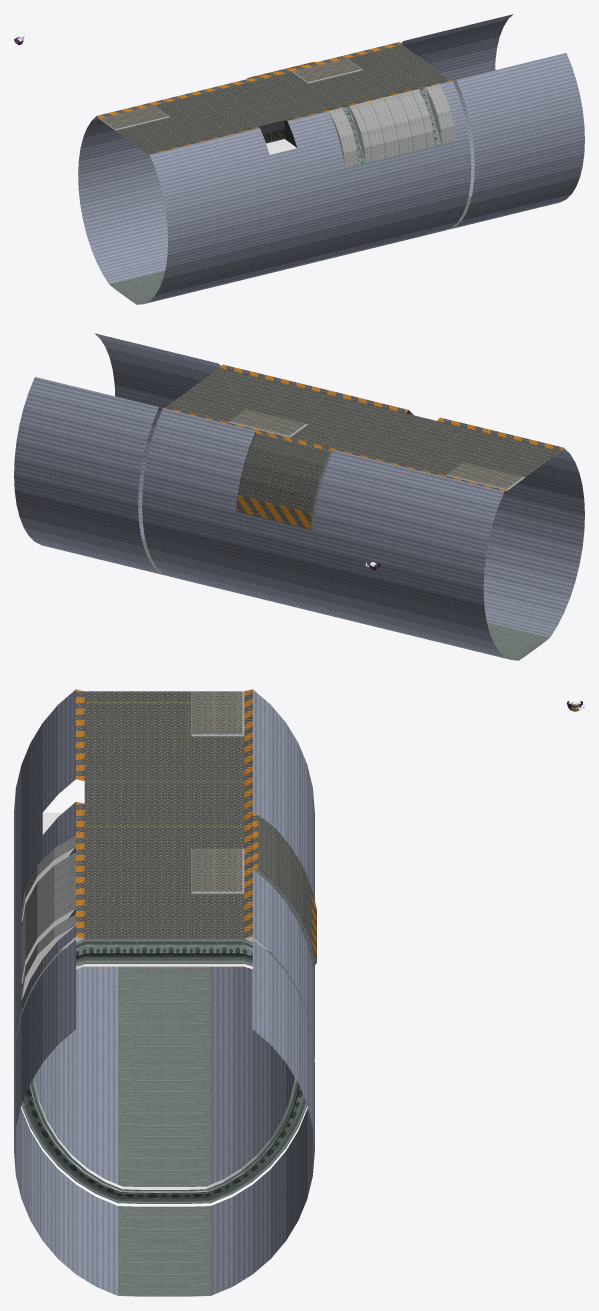
The picture shows the model from 3 angles, top to bottom: view 1: azimuth 30°, elevation 25°; view 2: azimuth 150°, elevation 25°; view 3: azimuth 270°, elevation 25°; orthographic projection. The views are drawn at different scales.
Visible parts, largest first — view 1: Geom0Shape12_face00, Geom0Shape10_face00, Geom0Shape6_face00, Geom0Shape5_face00, Geom0Shape8_face00, Geom0Shape11_face00, Geom0Shape13_face00, Geom0Shape4_face00, Geom0Shape3_face00, Geom0Shape5_face02; view 2: Geom0Shape12_face00, Geom0Shape7_face00, Geom0Shape9_face00, Geom0Shape10_face00, Geom0Shape5_face00, Geom0Shape11_face00, Geom0Shape13_face00, Geom0Shape3_face00; view 3: Geom0Shape5_face00, Geom0Shape10_face00, Geom0Shape3_face00, Geom0Shape11_face00, Geom0Shape12_face00, Geom0Shape6_face00, Geom0Shape7_face00, Geom0Shape13_face00, Geom0Shape9_face00, Geom0Shape8_face00, Geom0Shape32_face00, Geom0Shape31_face00 (+2 smaller).
Part boxes in pixels (<box>): Geom0Shape12_face00: <box>78,116,236,304</box>; Geom0Shape10_face00: <box>401,24,543,229</box>; Geom0Shape6_face00: <box>255,111,374,276</box>; Geom0Shape5_face00: <box>207,42,451,126</box>; Geom0Shape8_face00: <box>351,80,471,253</box>; Geom0Shape11_face00: <box>453,14,584,212</box>; Geom0Shape13_face00: <box>147,127,278,286</box>; Geom0Shape4_face00: <box>329,84,455,167</box>; Geom0Shape3_face00: <box>97,89,258,154</box>; Geom0Shape5_face02: <box>258,120,292,144</box>; Geom0Shape12_face00: <box>406,448,584,660</box>; Geom0Shape7_face00: <box>235,431,385,629</box>; Geom0Shape9_face00: <box>142,408,277,602</box>; Geom0Shape10_face00: <box>60,344,220,575</box>; Geom0Shape5_face00: <box>163,364,436,460</box>; Geom0Shape11_face00: <box>14,333,161,556</box>; Geom0Shape13_face00: <box>359,461,507,640</box>; Geom0Shape3_face00: <box>380,417,563,491</box>; Geom0Shape5_face00: <box>75,779,252,938</box>; Geom0Shape10_face00: <box>14,939,314,1262</box>; Geom0Shape3_face00: <box>75,689,252,781</box>; Geom0Shape11_face00: <box>14,996,314,1296</box>; Geom0Shape12_face00: <box>14,689,314,1012</box>; Geom0Shape6_face00: <box>14,802,187,1125</box>; Geom0Shape7_face00: <box>188,779,316,1125</box>; Geom0Shape13_face00: <box>14,746,314,1046</box>; Geom0Shape9_face00: <box>188,869,316,1186</box>; Geom0Shape8_face00: <box>14,926,187,1186</box>; Geom0Shape32_face00: <box>21,1080,307,1203</box>; Geom0Shape31_face00: <box>14,938,314,1080</box>.
Bounding box in the file's own units: 30249 × 11239 × 21463.
